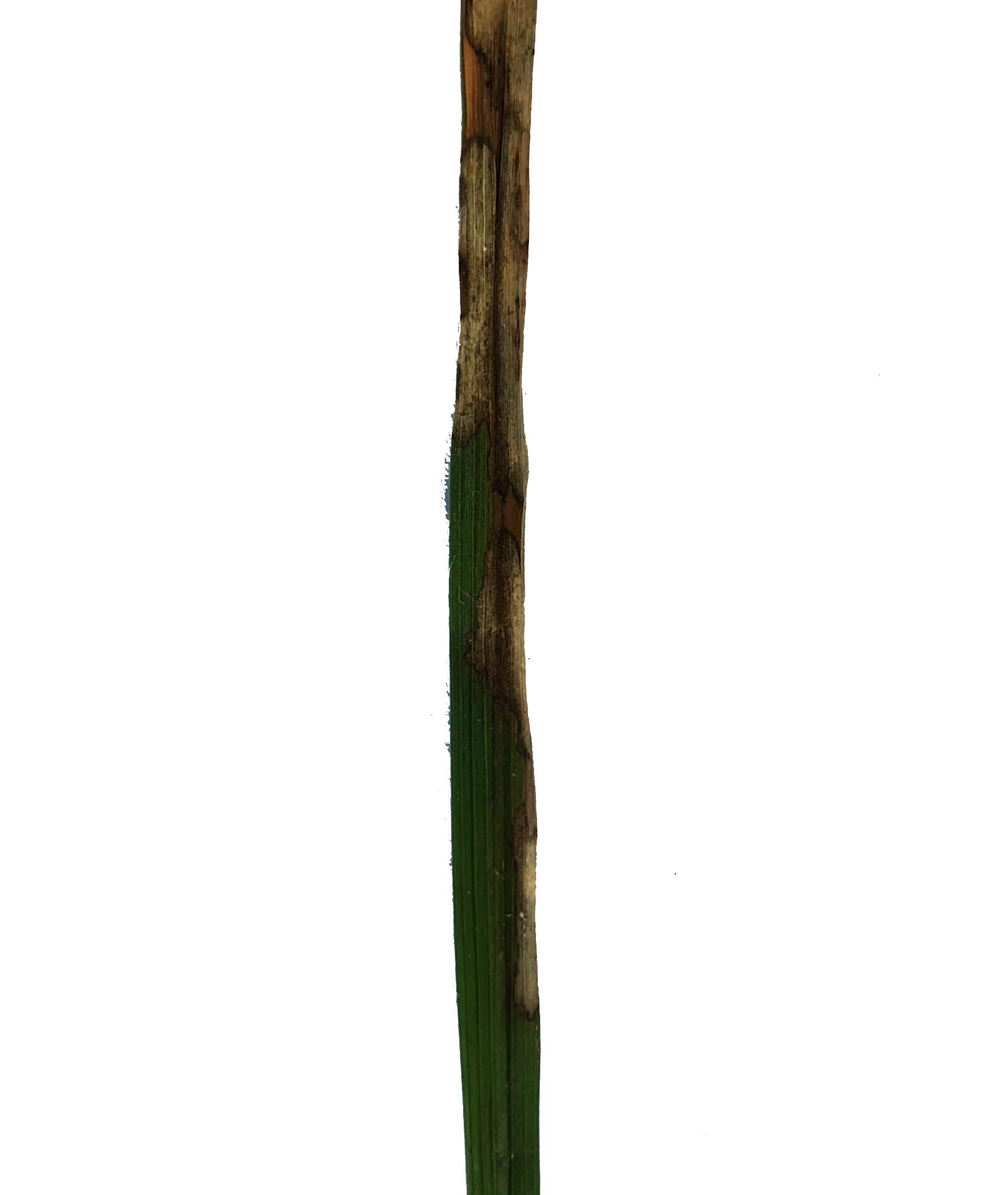Blight: (464, 0, 535, 467), (504, 769, 563, 1052), (470, 513, 548, 713)
